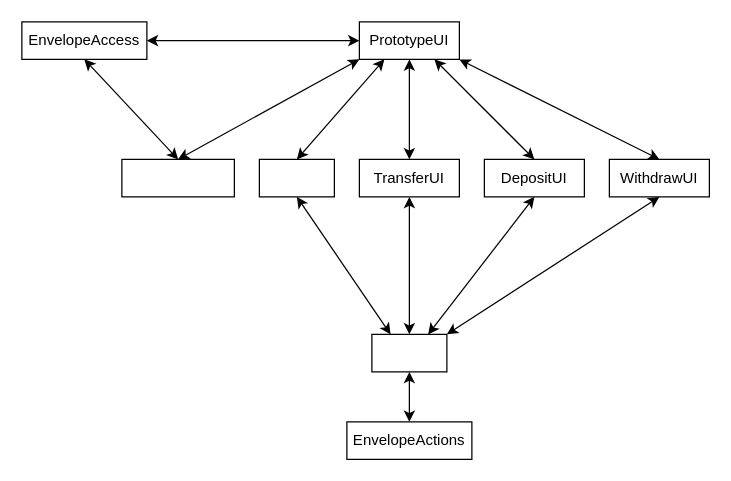
Some shapes in this 731 by 481 pixel diagram are drawn without their labels. Each missing label, with the centre of its shape:
"Actions" belongs at [409,352].
"AddEnvelopeUI" belongs at [177,177].
"EditUI" belongs at [296,177].
